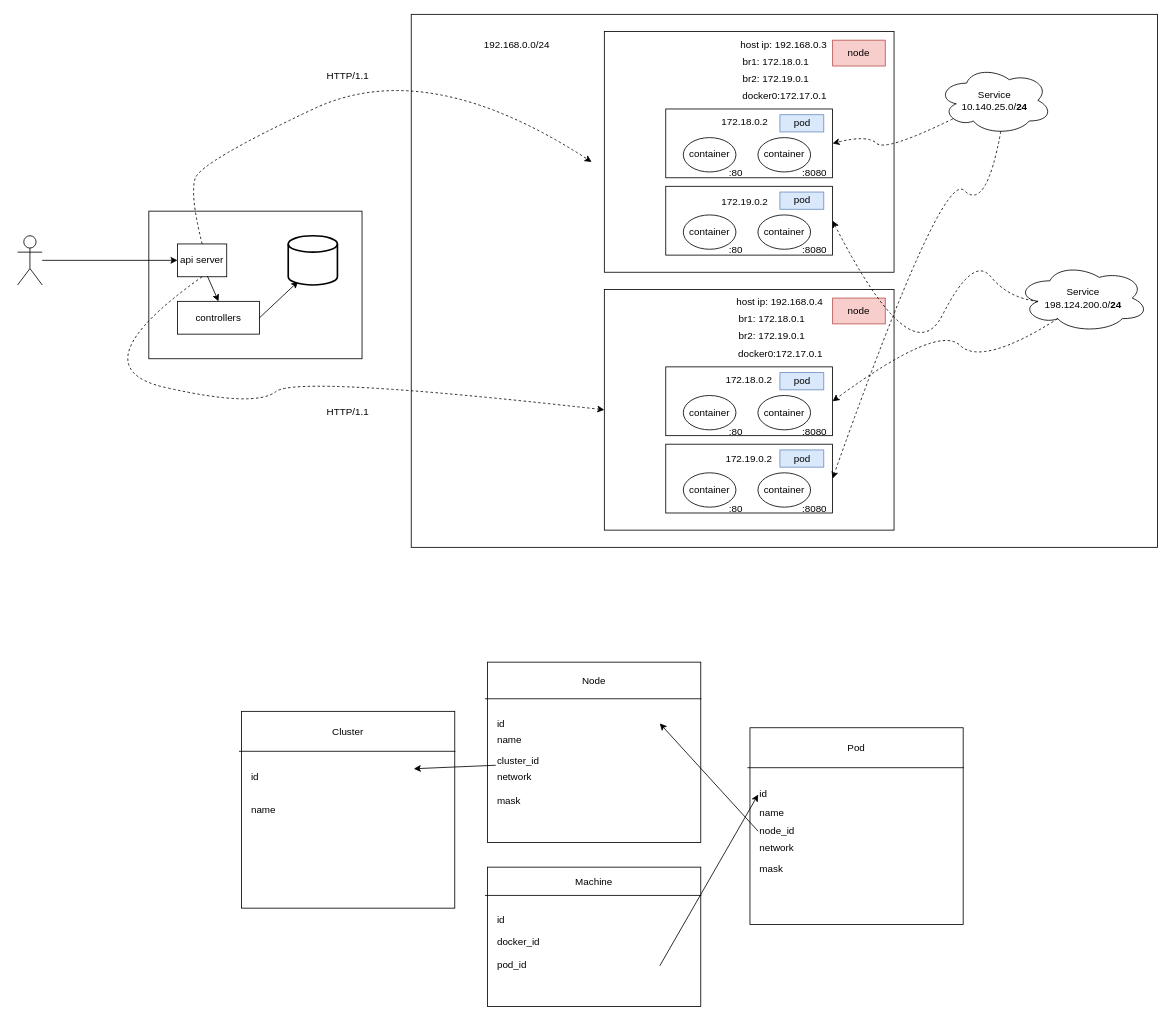
The diagram is 1172 pixels wide and 1021 high, and some of its shapes have lost their labels. The shapes that lost their labels are listed below. From the top down, each one's centre as x and y in pixels, then its label:
At [29,260]: "kubectl".
At [312,260]: "etcd".
